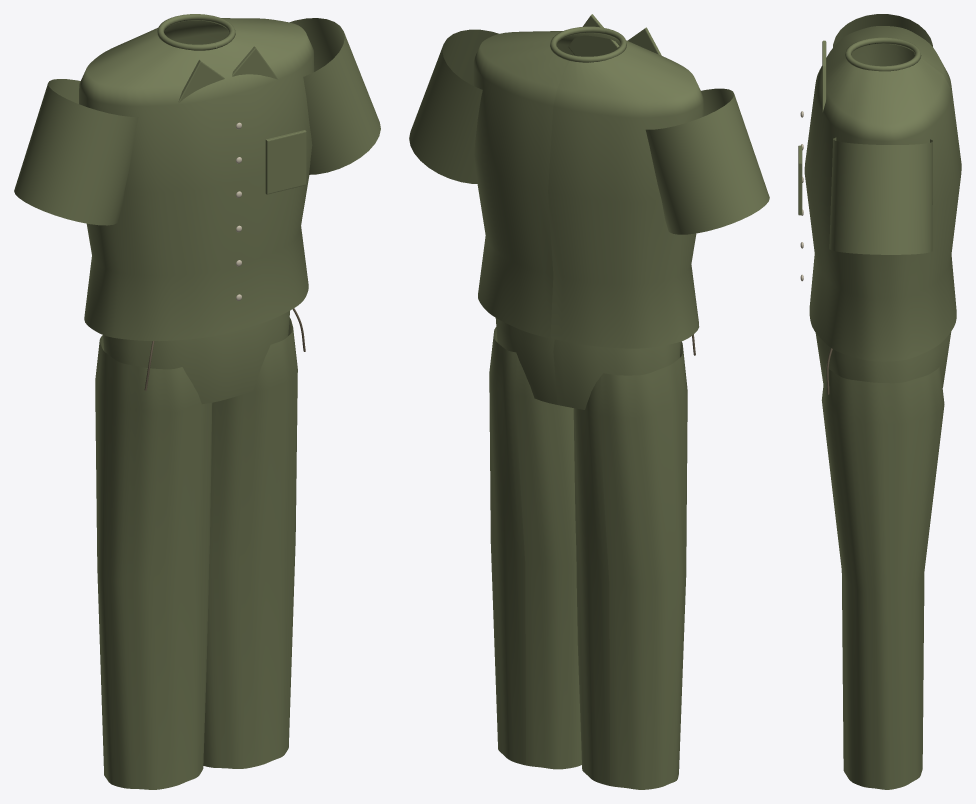
The model's file is ensemble-latitude-homme.glb.
3 views of the same model, side by side, from view 1: azimuth 30°, elevation 25°; view 2: azimuth 150°, elevation 25°; view 3: azimuth 270°, elevation 25° (orthographic). The views are drawn at different scales.
Visible parts, largest first — view 1: edit-20, short-sleeve (×2); view 2: edit-20, short-sleeve (×2); view 3: edit-20, short-sleeve (×2).
Boxes of the visible parts, box(x1,y1,x2,y2) form: edit-20: box(79, 14, 314, 789); short-sleeve (×2): box(14, 18, 380, 225); edit-20: box(473, 14, 703, 789); short-sleeve (×2): box(409, 29, 769, 234); edit-20: box(798, 26, 961, 789); short-sleeve (×2): box(829, 14, 932, 254).
Bounding box in the file's own units: 0.7063 × 1.41 × 0.2985.
